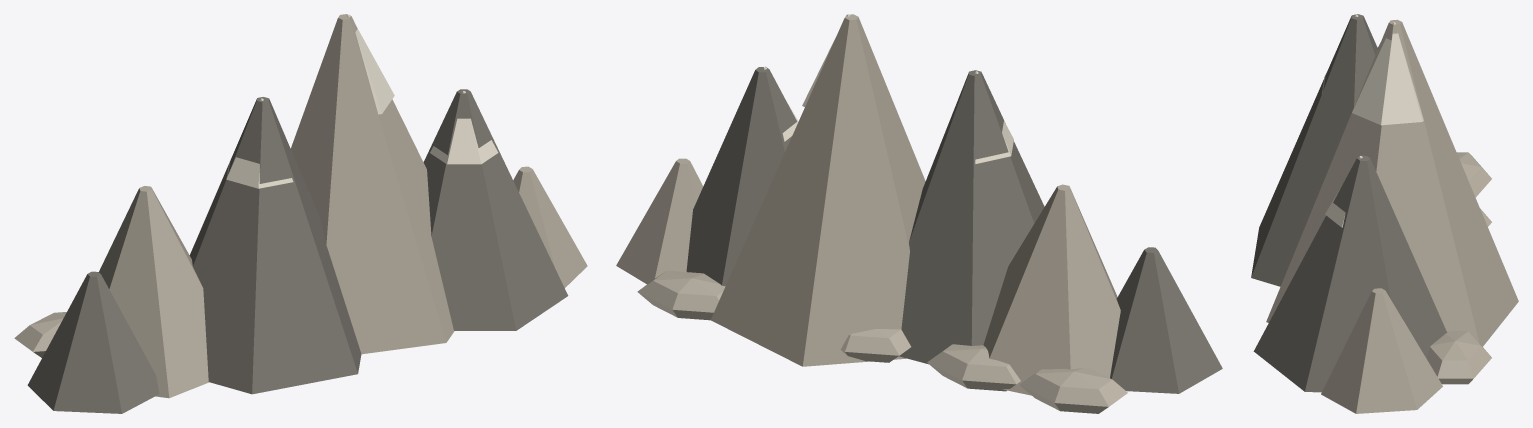
The model's file is peak_ridge.fbx.
3 views of the same model, side by side, from view 1: azimuth 30°, elevation 25°; view 2: azimuth 150°, elevation 25°; view 3: azimuth 270°, elevation 25° (orthographic). The views are drawn at different scales.
Parts seen in each view (by area): view 1: Prop; view 2: Prop; view 3: Prop.
Boxes of the visible parts, x1,y1,x2,y2 form: Prop: (14,14,587,413); Prop: (616,14,1222,413); Prop: (1251,14,1518,413).
Size of the model in its own units: 9.15 by 3.92 by 4.74.
